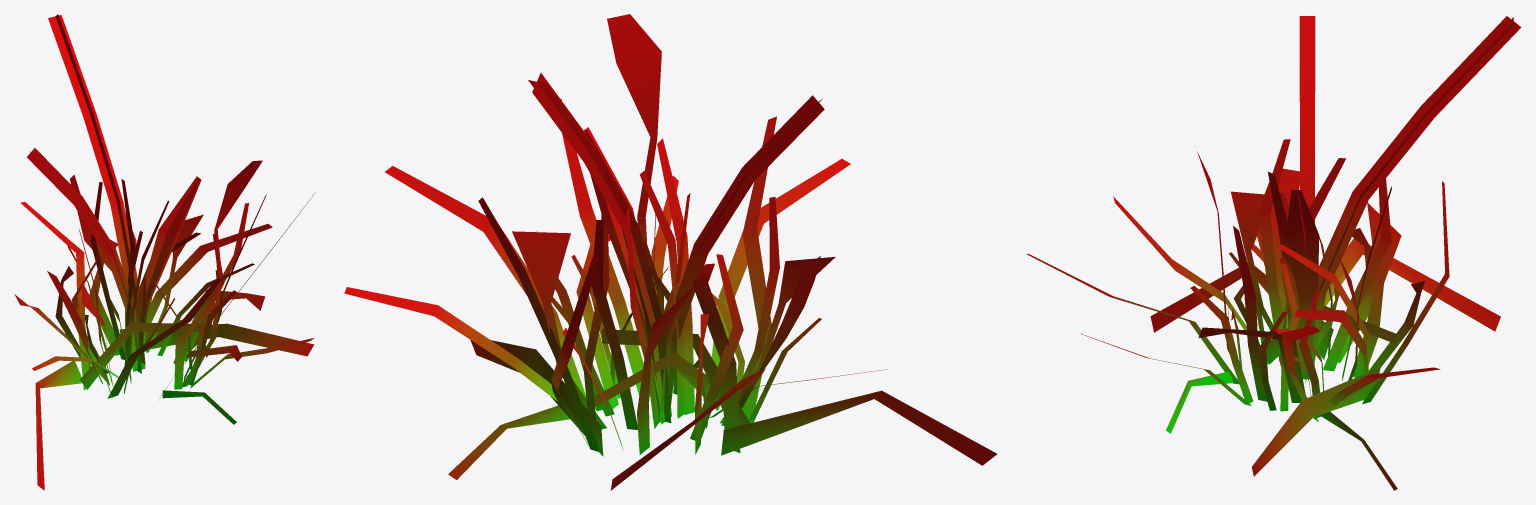
The model's file is Var6_LOD2.fbx.
3 views of the same model, side by side, from view 1: azimuth 30°, elevation 25°; view 2: azimuth 150°, elevation 25°; view 3: azimuth 270°, elevation 25° (orthographic). The views are drawn at different scales.
Visible parts, largest first — view 1: _a021_Var6_LOD2; view 2: _a021_Var6_LOD2; view 3: _a021_Var6_LOD2.
Part boxes in pixels (x1=…): _a021_Var6_LOD2: x1=14, y1=14, x2=315, y2=490; _a021_Var6_LOD2: x1=344, y1=14, x2=997, y2=490; _a021_Var6_LOD2: x1=1027, y1=16, x2=1521, y2=490.
Size of the model in its own units: 27.09 by 25.01 by 27.14.
